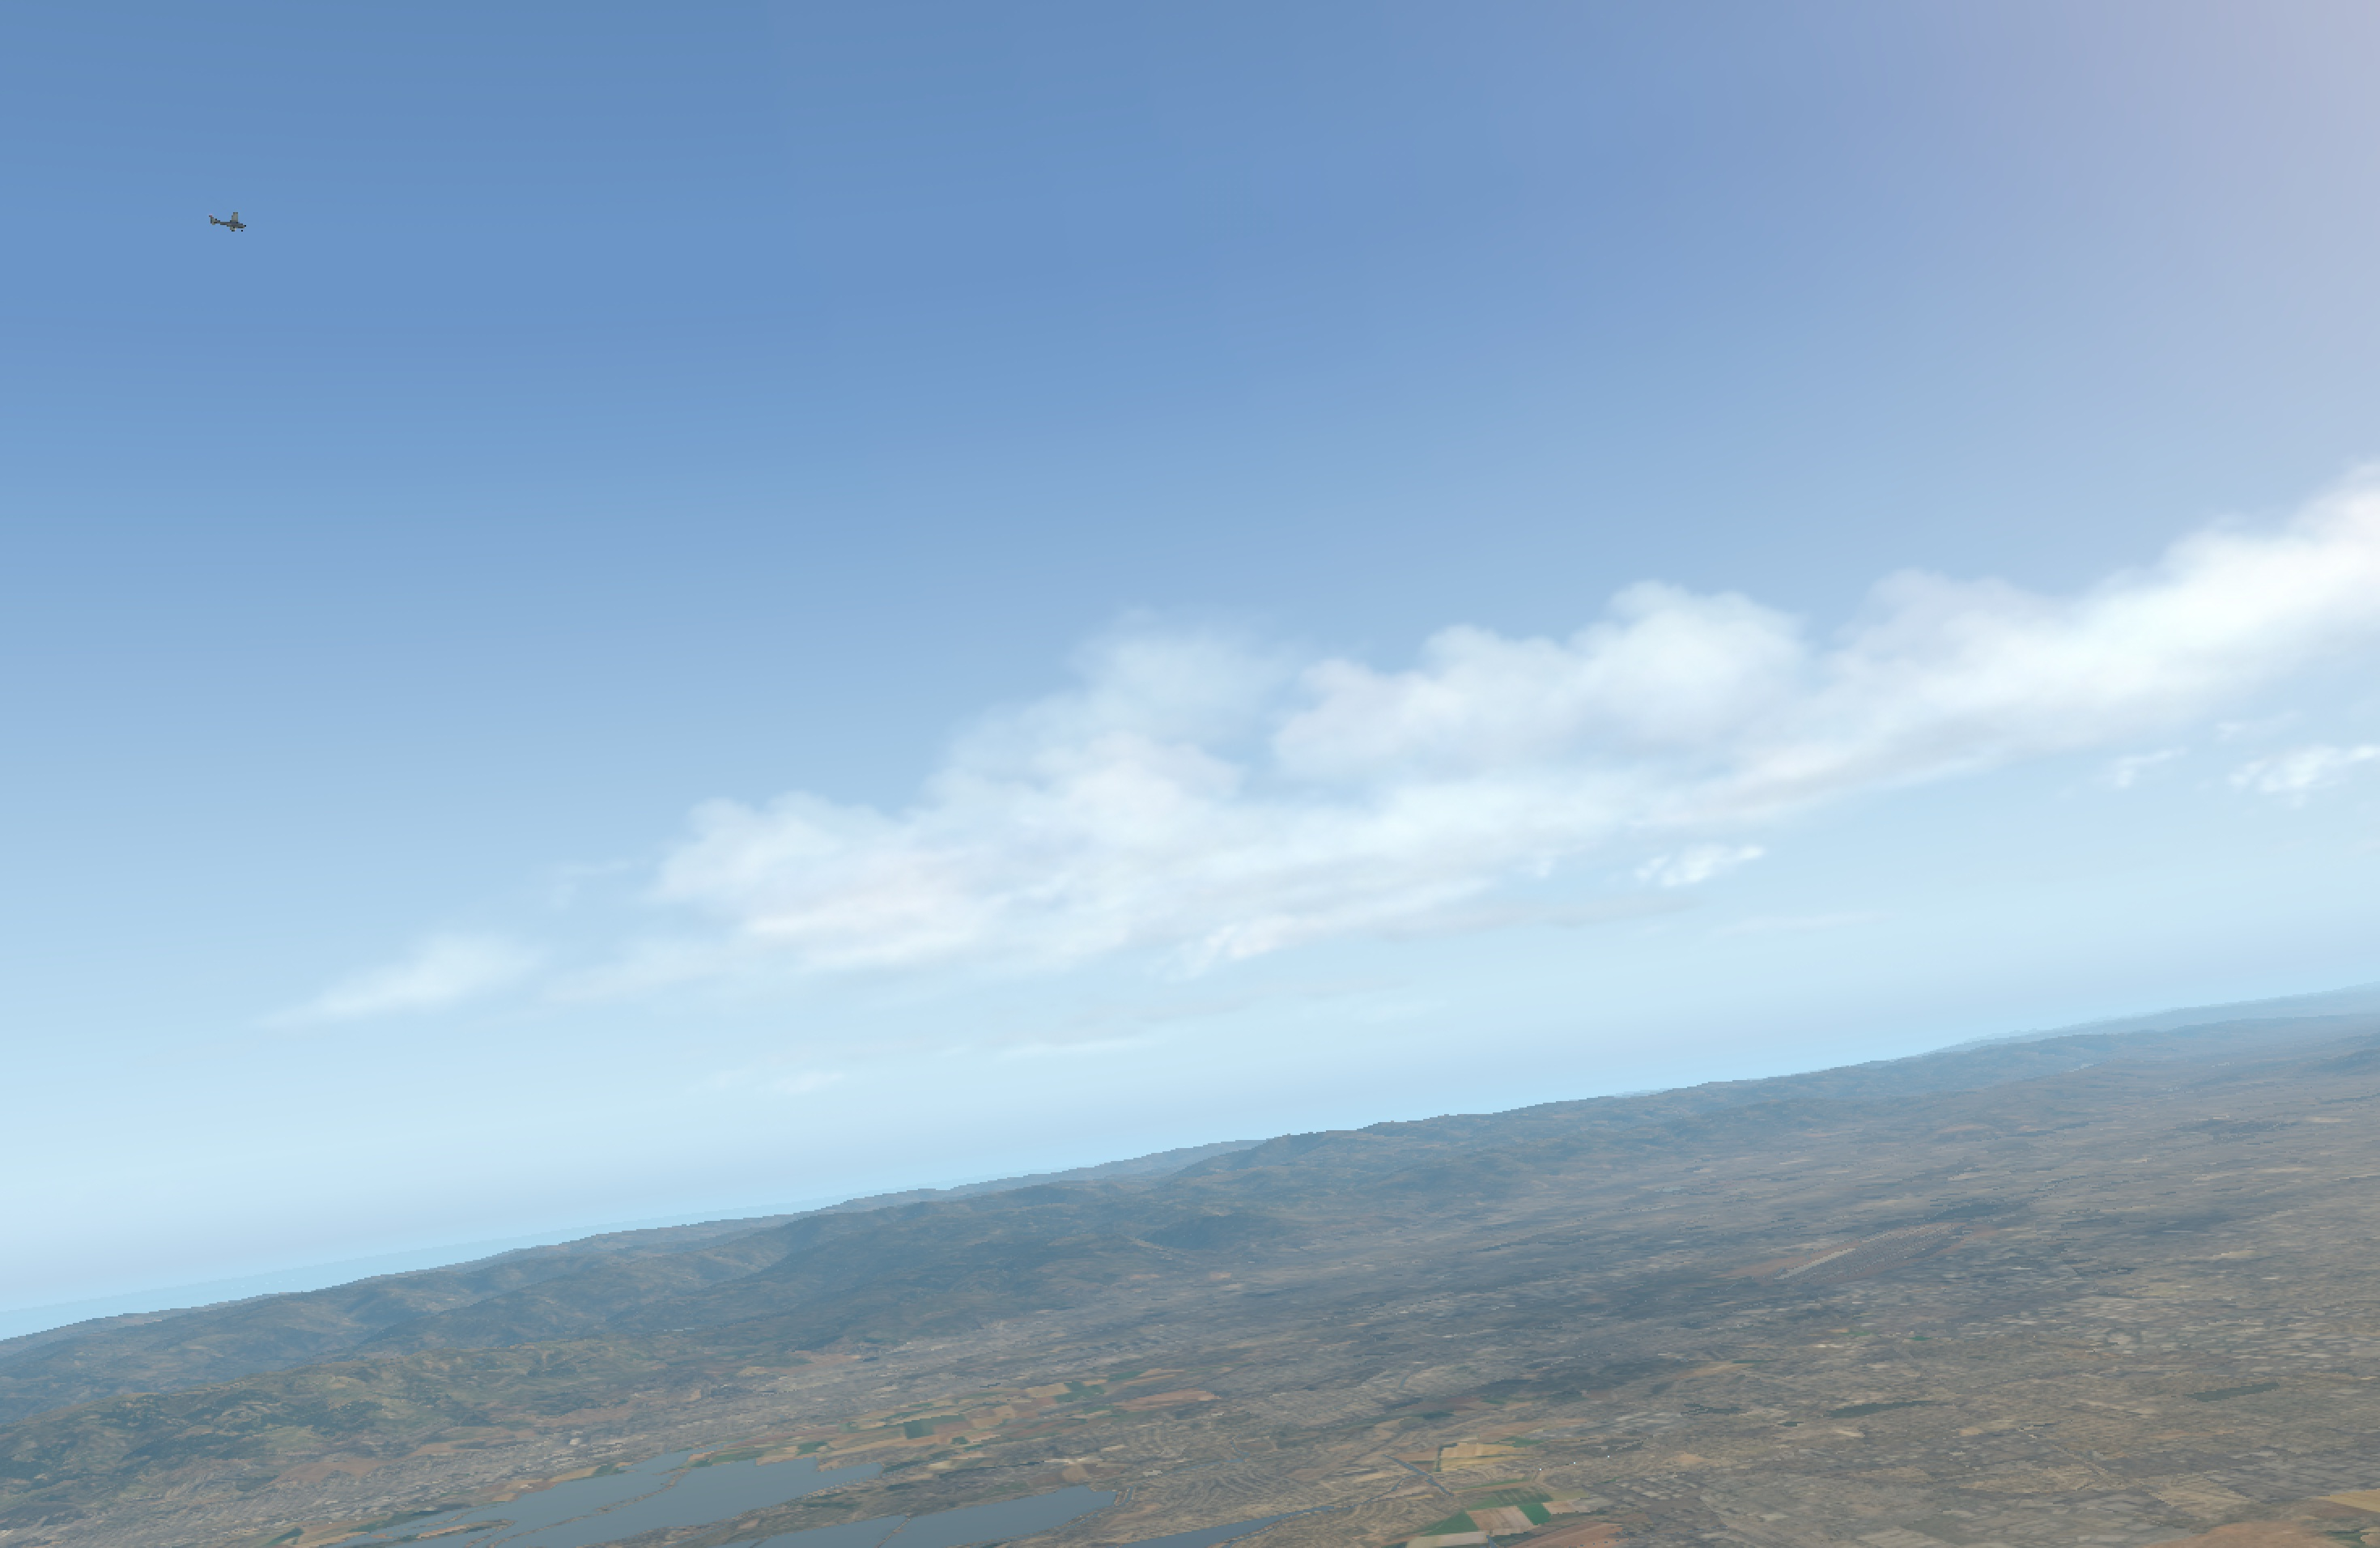aircraft: (220, 219, 250, 231)
